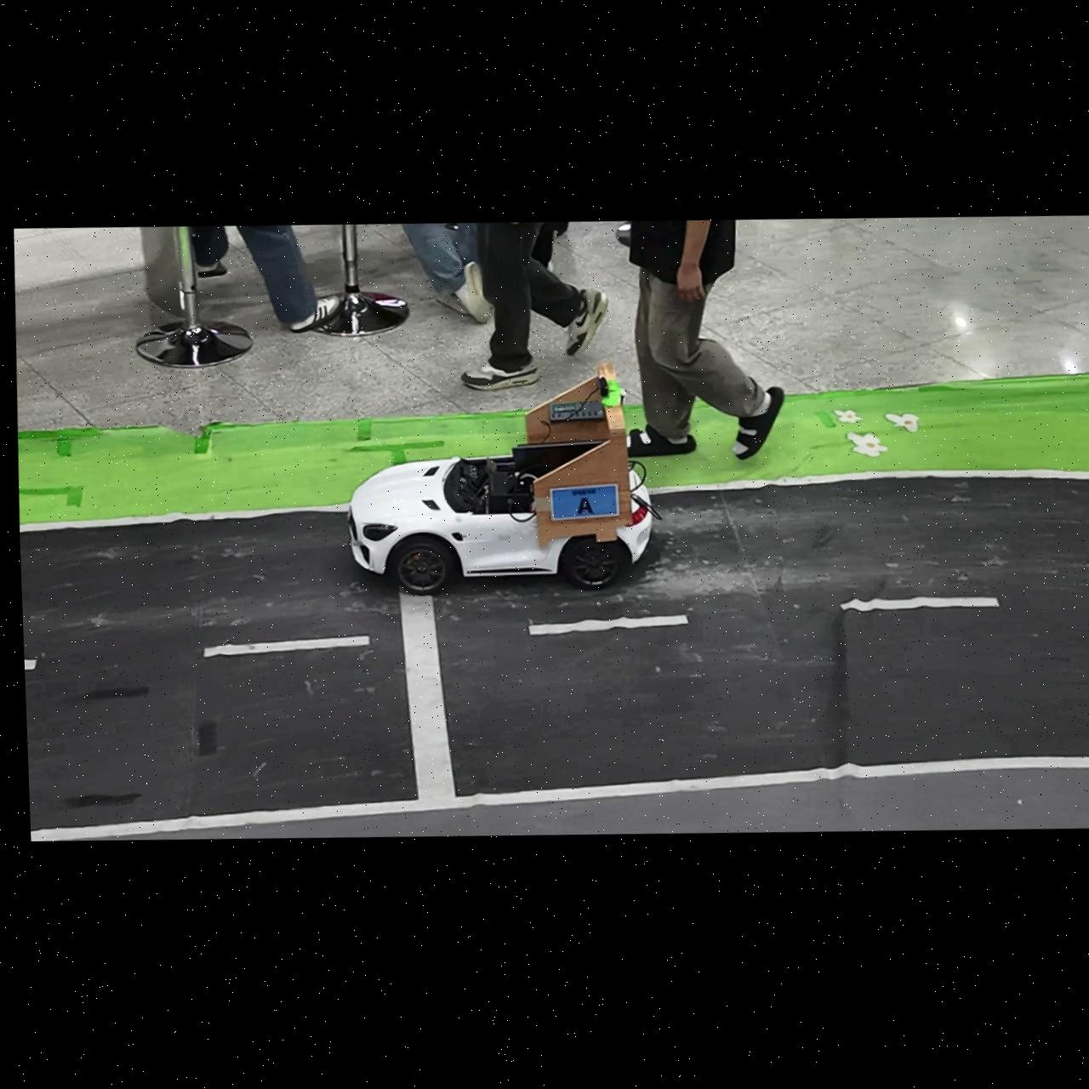broken_line: (203, 635, 369, 657), (529, 614, 688, 635), (840, 597, 999, 612), (24, 659, 37, 671)
